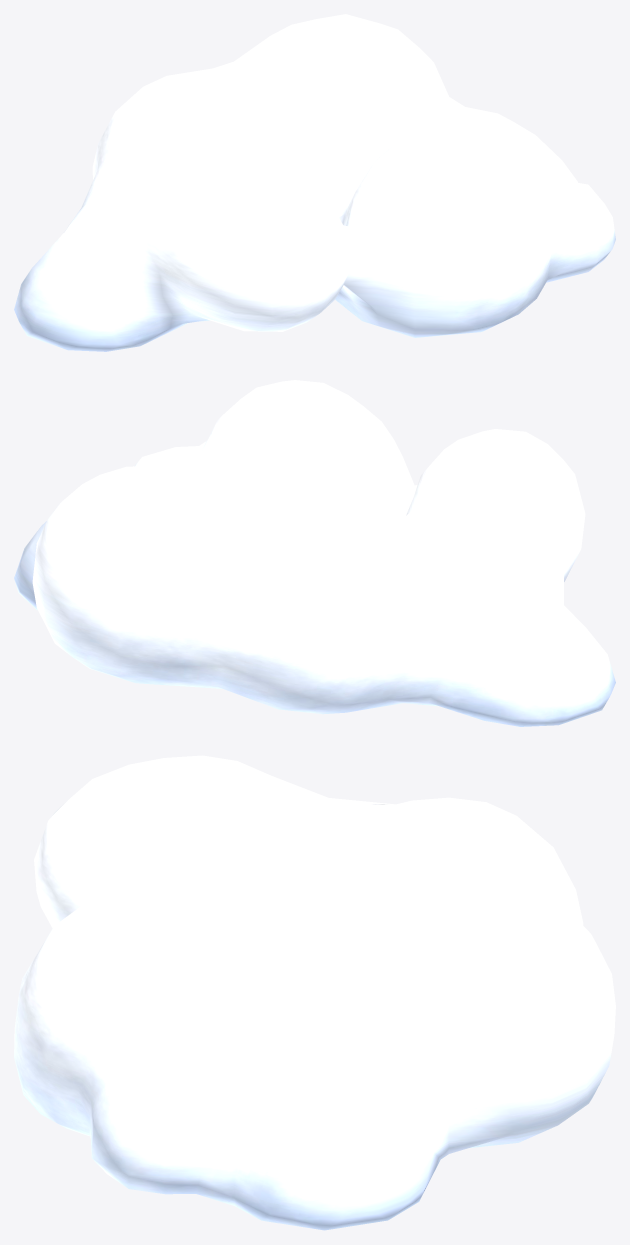
File: cloud-3.glb
3 renders of one model, top to bottom at view 1: azimuth 30°, elevation 25°; view 2: azimuth 150°, elevation 25°; view 3: azimuth 270°, elevation 25°, orthographic. The views are drawn at different scales.
Parts seen in each view (by area): view 1: cloud-3; view 2: cloud-3; view 3: cloud-3.
Part boxes in pixels (bbox=[...]): cloud-3: bbox=[14, 14, 615, 351]; cloud-3: bbox=[14, 380, 615, 726]; cloud-3: bbox=[14, 755, 615, 1230].
Size of the model in its own units: 0.804 by 0.2468 by 0.5924.
Materials: 1 (1 with a texture image).
